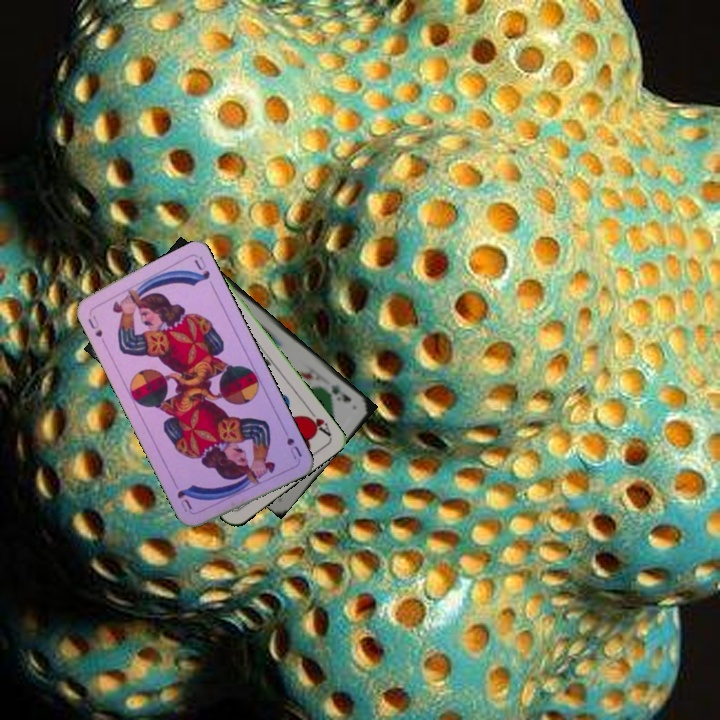GK: (327, 380, 354, 405)
HA: (300, 404, 333, 439)
SU: (278, 423, 304, 462), (84, 308, 105, 340)
